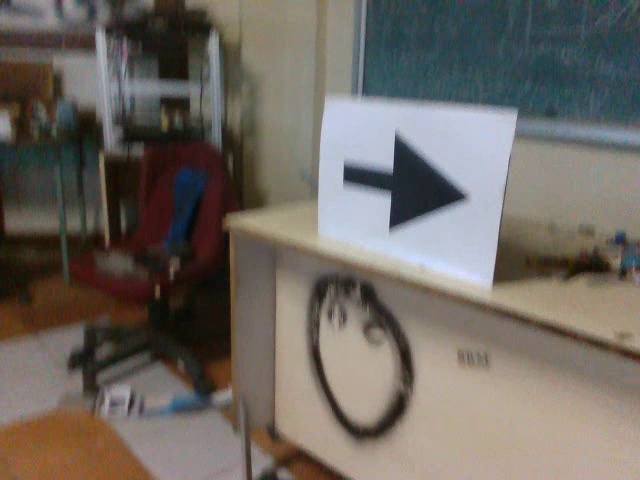Right: (338, 116, 475, 238)
